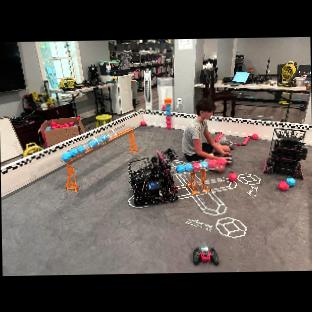Robot: (127, 145, 180, 208), (261, 128, 308, 180)
V5_BLUE: (286, 177, 295, 186), (45, 126, 51, 130)
V5_RED: (52, 121, 74, 130), (277, 180, 289, 191), (228, 171, 237, 182), (250, 131, 259, 142), (140, 120, 146, 127)
blueingoal: (175, 163, 184, 173), (87, 139, 96, 148), (60, 152, 70, 160), (184, 162, 192, 172), (68, 148, 77, 156), (76, 146, 86, 153), (100, 134, 109, 141), (200, 161, 208, 168), (95, 137, 101, 145)
blueinloader: (165, 111, 171, 115), (166, 106, 170, 111), (165, 103, 170, 106)
redingoal: (216, 156, 225, 167), (207, 160, 217, 168), (192, 162, 200, 170)
redloader: (165, 124, 172, 129), (165, 120, 171, 124), (165, 116, 170, 120)
